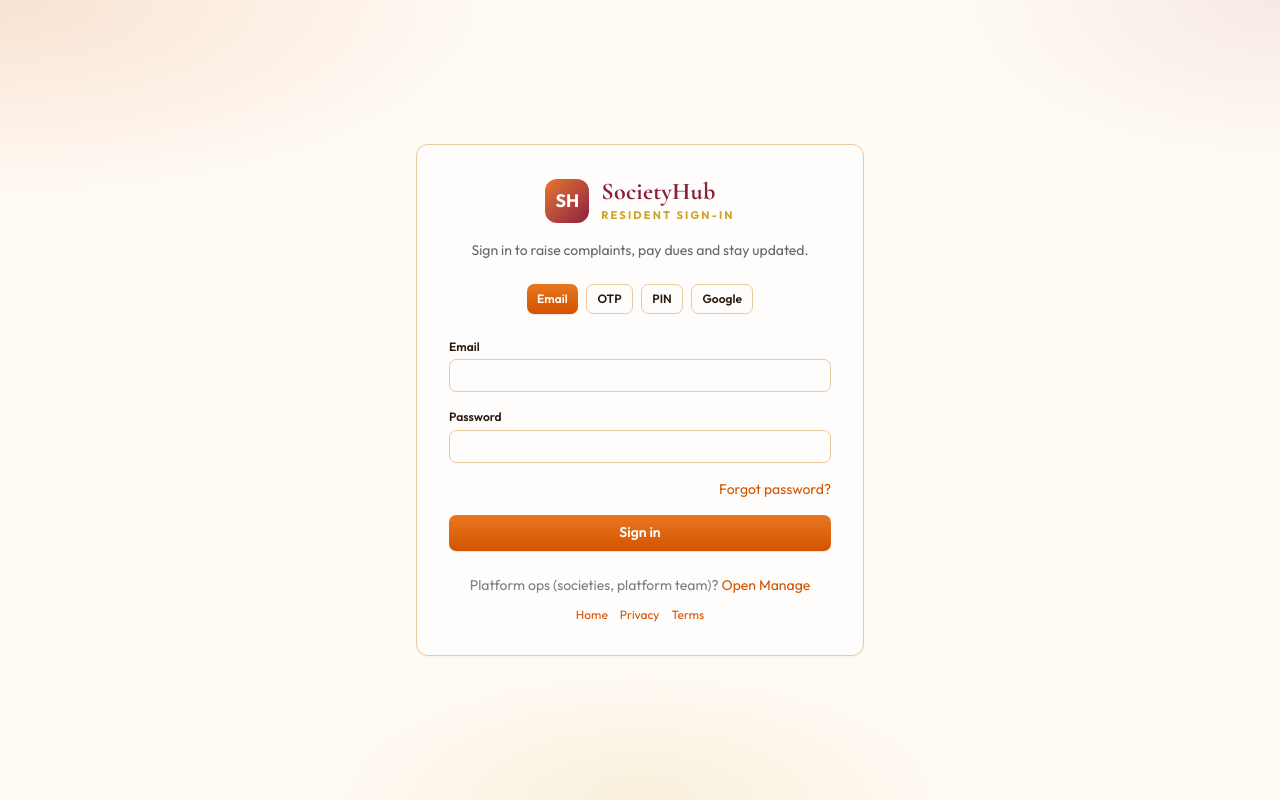
Test: Resident login › shows an error when Google login is not onboarded
Click the button with test id "login-mode-google" at (722, 299), box [691,284,753,314]
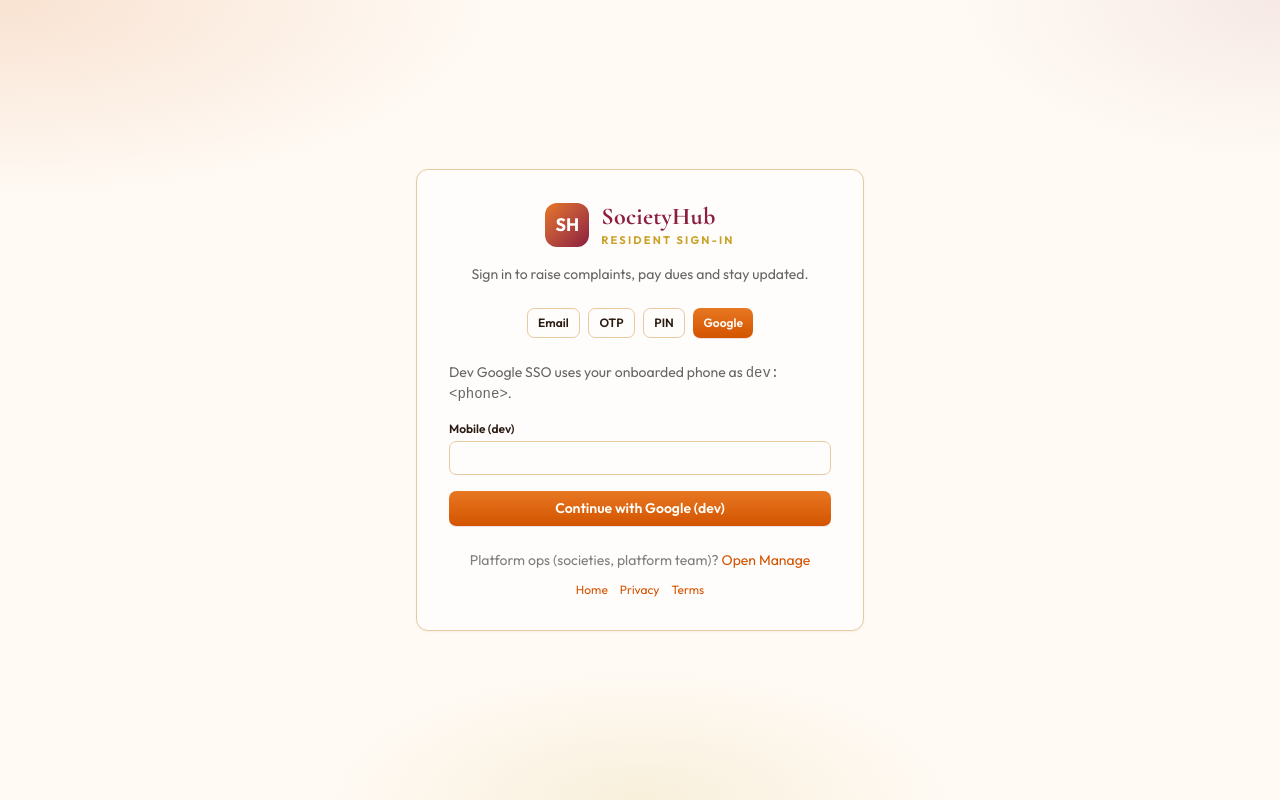
Type "7000000004" into the field labelled "Mobile (dev)" at (640, 458), box [449,441,831,475]
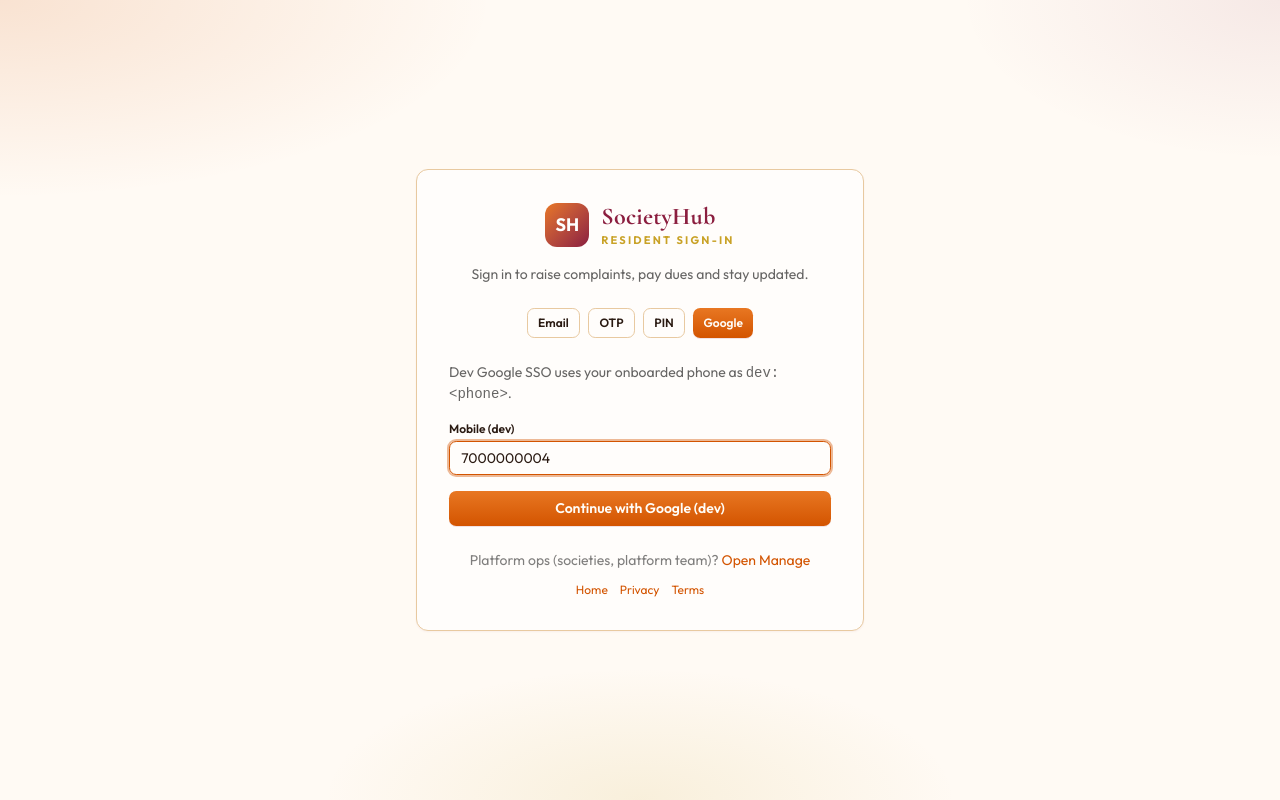
Click the button "Continue with Google (dev)" at (640, 509), box [449,491,831,526]
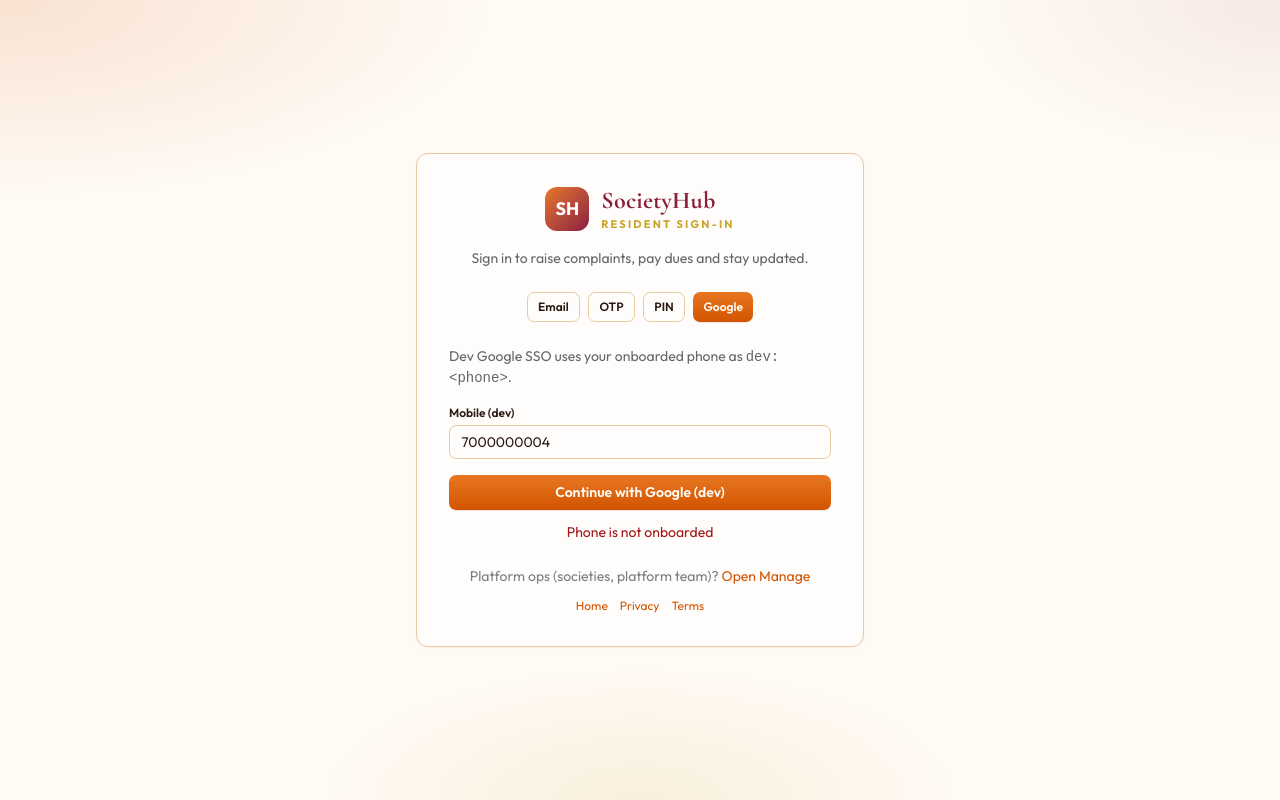
expect the text "Phone is not onboarded" is shown: met, box [567,523,713,541]
